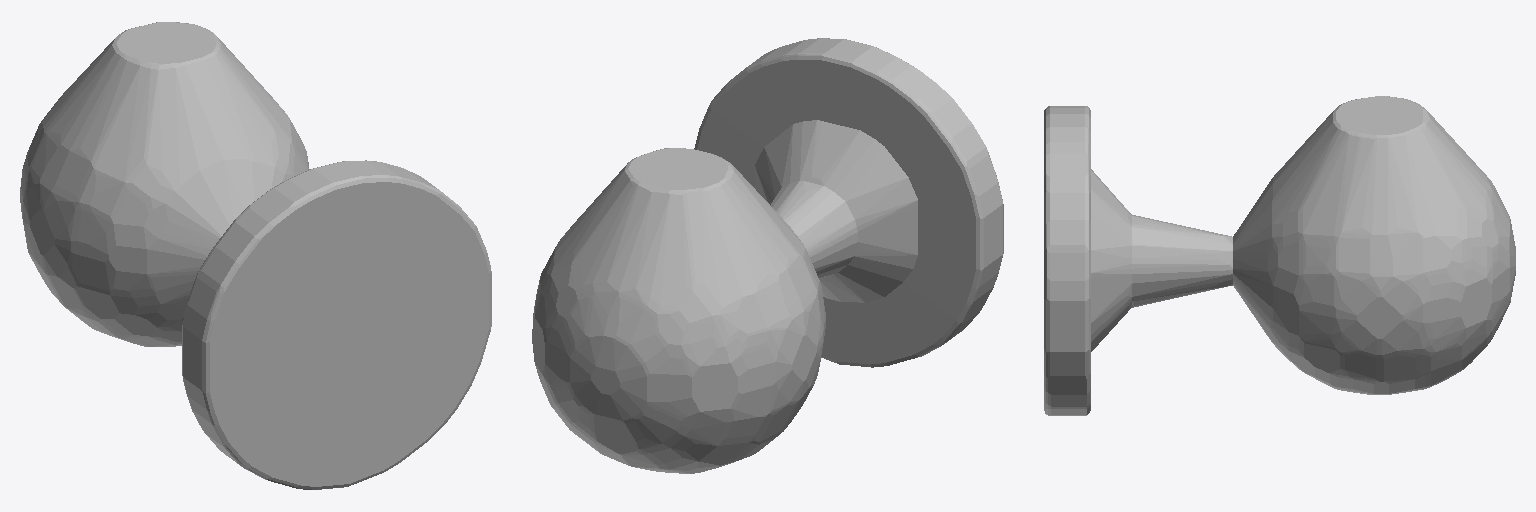
The robot description file, URDF, robot "root":
<robot name="root">
  <link name="link_coacd_convex_piece_0">
    <inertial>
      <origin xyz="0 0 0" rpy="0 0 0"/>
      <inertia ixx="7.85E-02" ixy="1.48E-06" ixz="9.90E-06" iyy="7.84E-02" iyz="5.04E-04" izz="1.85E-02"/>
    </inertial>
    <visual>
      <origin xyz="0 0 0" rpy="0 0 0"/>
      <geometry>
        <mesh filename="coacd_convex_piece_0.obj" scale="1.0000E+00 1.0000E+00 1.0000E+00"/>
      </geometry>
      <material name="">
        <color rgba="7.50E-01 7.50E-01 7.50E-01 1"/>
      </material>
    </visual>
    <collision>
      <origin xyz="0 0 0" rpy="0 0 0"/>
      <geometry>
        <mesh filename="coacd_convex_piece_0.obj" scale="1.0000E+00 1.0000E+00 1.0000E+00"/>
      </geometry>
    </collision>
  </link>
  <link name="link_coacd_convex_piece_1">
    <inertial>
      <origin xyz="0 0 0" rpy="0 0 0"/>
      <inertia ixx="8.57E-02" ixy="-3.37E-05" ixz="-2.81E-05" iyy="8.19E-02" iyz="2.33E-03" izz="3.79E-02"/>
    </inertial>
    <visual>
      <origin xyz="0 0 0" rpy="0 0 0"/>
      <geometry>
        <mesh filename="coacd_convex_piece_1.obj" scale="1.0000E+00 1.0000E+00 1.0000E+00"/>
      </geometry>
      <material name="">
        <color rgba="7.50E-01 7.50E-01 7.50E-01 1"/>
      </material>
    </visual>
    <collision>
      <origin xyz="0 0 0" rpy="0 0 0"/>
      <geometry>
        <mesh filename="coacd_convex_piece_1.obj" scale="1.0000E+00 1.0000E+00 1.0000E+00"/>
      </geometry>
    </collision>
  </link>
  <joint name="link_coacd_convex_piece_1_joint" type="fixed">
    <origin xyz="0 0 0" rpy="0 0 0"/>
    <parent link="link_coacd_convex_piece_0"/>
    <child link="link_coacd_convex_piece_1"/>
  </joint>
  <link name="link_coacd_convex_piece_2">
    <inertial>
      <origin xyz="0 0 0" rpy="0 0 0"/>
      <inertia ixx="2.30E-03" ixy="-3.11E-07" ixz="6.10E-07" iyy="2.30E-03" iyz="2.66E-05" izz="1.34E-04"/>
    </inertial>
    <visual>
      <origin xyz="0 0 0" rpy="0 0 0"/>
      <geometry>
        <mesh filename="coacd_convex_piece_2.obj" scale="1.0000E+00 1.0000E+00 1.0000E+00"/>
      </geometry>
      <material name="">
        <color rgba="7.50E-01 7.50E-01 7.50E-01 1"/>
      </material>
    </visual>
    <collision>
      <origin xyz="0 0 0" rpy="0 0 0"/>
      <geometry>
        <mesh filename="coacd_convex_piece_2.obj" scale="1.0000E+00 1.0000E+00 1.0000E+00"/>
      </geometry>
    </collision>
  </link>
  <joint name="link_coacd_convex_piece_2_joint" type="fixed">
    <origin xyz="0 0 0" rpy="0 0 0"/>
    <parent link="link_coacd_convex_piece_1"/>
    <child link="link_coacd_convex_piece_2"/>
  </joint>
  <link name="link_coacd_convex_piece_3">
    <inertial>
      <origin xyz="0 0 0" rpy="0 0 0"/>
      <inertia ixx="8.59E-03" ixy="-1.05E-05" ixz="1.39E-06" iyy="8.59E-03" iyz="7.53E-05" izz="7.54E-04"/>
    </inertial>
    <visual>
      <origin xyz="0 0 0" rpy="0 0 0"/>
      <geometry>
        <mesh filename="coacd_convex_piece_3.obj" scale="1.0000E+00 1.0000E+00 1.0000E+00"/>
      </geometry>
      <material name="">
        <color rgba="7.50E-01 7.50E-01 7.50E-01 1"/>
      </material>
    </visual>
    <collision>
      <origin xyz="0 0 0" rpy="0 0 0"/>
      <geometry>
        <mesh filename="coacd_convex_piece_3.obj" scale="1.0000E+00 1.0000E+00 1.0000E+00"/>
      </geometry>
    </collision>
  </link>
  <joint name="link_coacd_convex_piece_3_joint" type="fixed">
    <origin xyz="0 0 0" rpy="0 0 0"/>
    <parent link="link_coacd_convex_piece_2"/>
    <child link="link_coacd_convex_piece_3"/>
  </joint>
</robot>

--- Facts derived from the render (not from the file) ---
3 views of the same robot in one strip: view 1: azimuth 30°, elevation 25°; view 2: azimuth 150°, elevation 25°; view 3: azimuth 270°, elevation 25° (orthographic).
Model root with 4 links and 3 joints (3 fixed), rooted at link_coacd_convex_piece_0, posed every joint at zero.
Links seen in each view (by area): view 1: link_coacd_convex_piece_0, link_coacd_convex_piece_1; view 2: link_coacd_convex_piece_1, link_coacd_convex_piece_0, link_coacd_convex_piece_3, link_coacd_convex_piece_2; view 3: link_coacd_convex_piece_1, link_coacd_convex_piece_0, link_coacd_convex_piece_2, link_coacd_convex_piece_3.
Link boxes in pixels (<box>): link_coacd_convex_piece_0: <box>182,160,491,489</box>; link_coacd_convex_piece_1: <box>20,22,309,346</box>; link_coacd_convex_piece_1: <box>532,148,825,473</box>; link_coacd_convex_piece_0: <box>694,38,1003,367</box>; link_coacd_convex_piece_3: <box>755,120,917,302</box>; link_coacd_convex_piece_2: <box>770,181,857,277</box>; link_coacd_convex_piece_1: <box>1233,96,1515,394</box>; link_coacd_convex_piece_0: <box>1044,106,1090,415</box>; link_coacd_convex_piece_2: <box>1132,215,1232,307</box>; link_coacd_convex_piece_3: <box>1091,169,1131,351</box>.
Bounding box of the posed robot: 1.07 × 1.64 × 1.1 m (x, y, z).
Meshes: 4 distinct files referenced, 4 mesh visuals loaded (4 OBJ).
